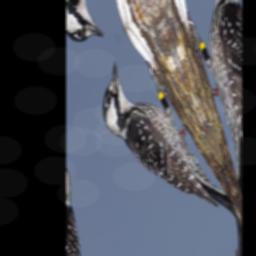Woodpecker: (89, 14, 238, 256)
